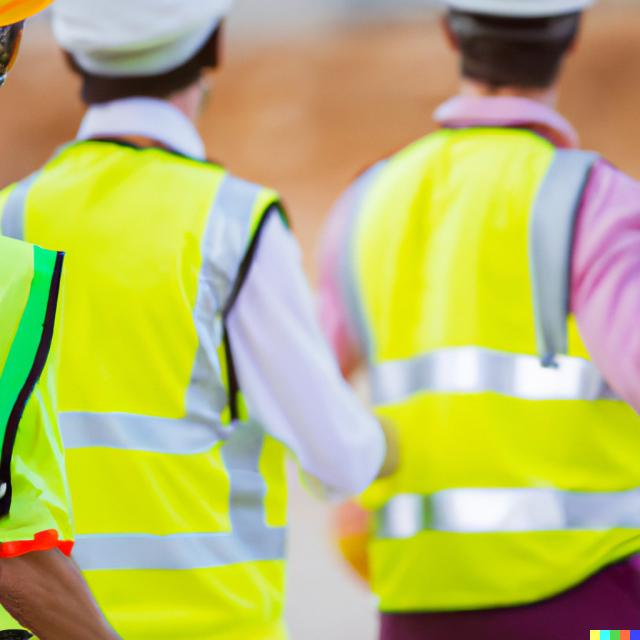Reflective-Jacket: (342, 112, 634, 626), (6, 129, 292, 640)
Safety-Helmet: (1, 0, 54, 34)
